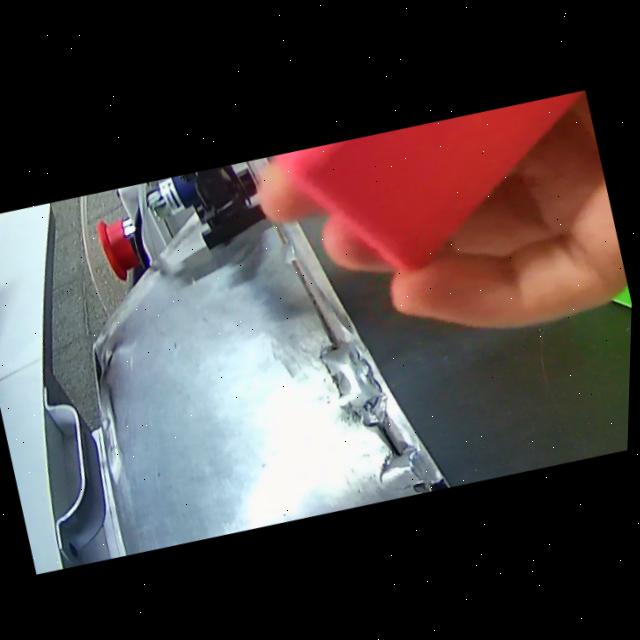greenBox: (580, 168, 636, 375)
redBox: (192, 74, 621, 326)
